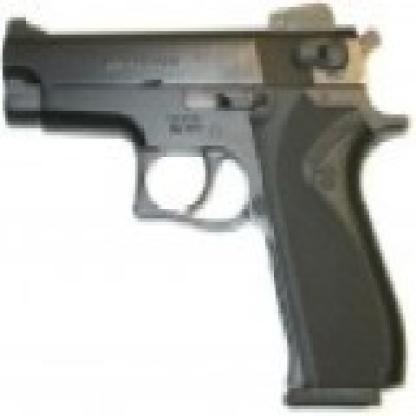handgun: (7, 0, 406, 402)
